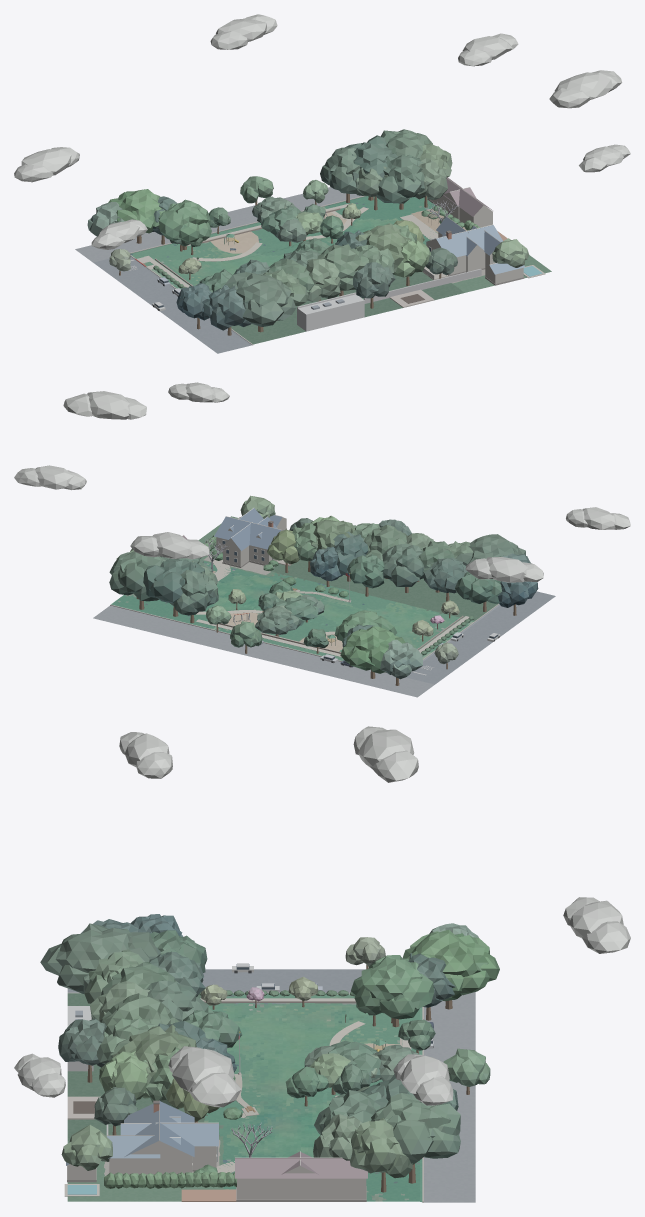
The model's file is eddie_park_vr.glb.
3 renders of one model, top to bottom at view 1: azimuth 30°, elevation 25°; view 2: azimuth 150°, elevation 25°; view 3: azimuth 270°, elevation 25°, orthographic. The views are drawn at different scales.
Parts seen in each view (by area): view 1: EddieParkVR; view 2: EddieParkVR; view 3: EddieParkVR.
Part boxes in pixels (x1,y1,x2,y2): EddieParkVR: (14,14,630,353); EddieParkVR: (14,382,630,697); EddieParkVR: (14,726,630,1202).
Bounding box in the file's own units: 191 × 47.68 × 129.
